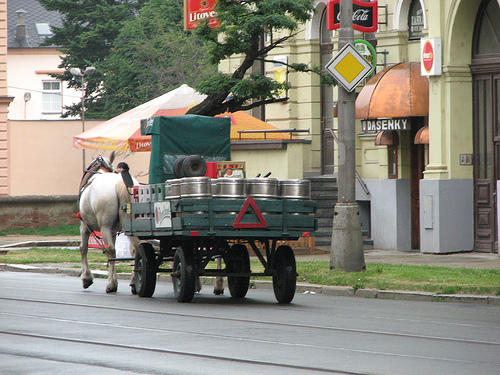horse: (75, 147, 143, 296)
